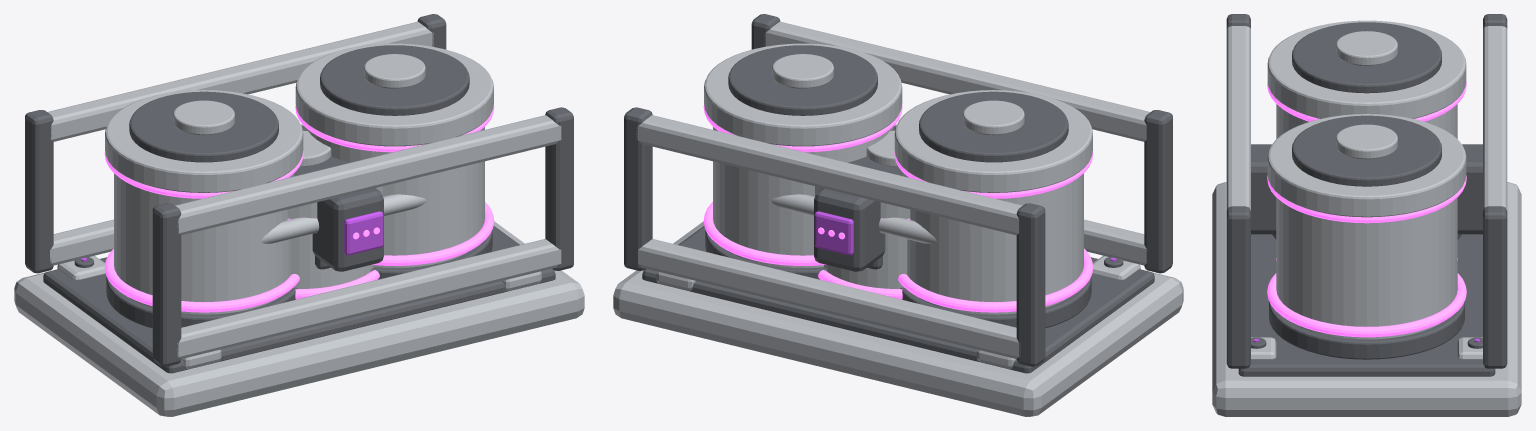
Rendered from AA_RadialMeshAtlas.glb.
The picture shows the model from 3 angles, left to right: view 1: azimuth 30°, elevation 25°; view 2: azimuth 150°, elevation 25°; view 3: azimuth 270°, elevation 25°; orthographic projection.
Parts seen in each view (by area): view 1: AA_RadialHeavy_Hull, AA_RadialHeavy_CageHull, AA_RadialHeavy_Dark, AA_RadialHeavy_CageDark, AA_RadialHeavy_Glow, AA_RadialCompact_Hull, AA_RadialHeavy_Accent, AA_RadialCompact_Glow, AA_RadialCompact_Dark; view 2: AA_RadialHeavy_Hull, AA_RadialHeavy_CageHull, AA_RadialHeavy_Dark, AA_RadialHeavy_CageDark, AA_RadialHeavy_Glow, AA_RadialCompact_Hull, AA_RadialHeavy_Accent, AA_RadialCompact_Glow, AA_RadialCompact_Dark; view 3: AA_RadialHeavy_Hull, AA_RadialHeavy_Dark, AA_RadialHeavy_CageHull, AA_RadialHeavy_CageDark, AA_RadialHeavy_Glow.
Boxes of the visible parts, x1,y1,x2,y2 form: AA_RadialHeavy_Hull: [14, 43, 584, 416]; AA_RadialHeavy_CageHull: [47, 21, 561, 358]; AA_RadialHeavy_Dark: [43, 45, 555, 373]; AA_RadialHeavy_CageDark: [25, 14, 573, 366]; AA_RadialHeavy_Glow: [104, 104, 494, 312]; AA_RadialCompact_Hull: [287, 124, 382, 288]; AA_RadialHeavy_Accent: [81, 211, 383, 261]; AA_RadialCompact_Glow: [287, 218, 379, 299]; AA_RadialCompact_Dark: [294, 125, 349, 269]; AA_RadialHeavy_Hull: [613, 43, 1183, 416]; AA_RadialHeavy_CageHull: [636, 21, 1150, 358]; AA_RadialHeavy_Dark: [642, 45, 1154, 373]; AA_RadialHeavy_CageDark: [624, 14, 1172, 366]; AA_RadialHeavy_Glow: [703, 104, 1093, 312]; AA_RadialCompact_Hull: [815, 124, 910, 288]; AA_RadialHeavy_Accent: [814, 211, 1116, 261]; AA_RadialCompact_Glow: [818, 218, 910, 299]; AA_RadialCompact_Dark: [848, 125, 903, 269]; AA_RadialHeavy_Hull: [1212, 20, 1521, 416]; AA_RadialHeavy_Dark: [1238, 22, 1495, 376]; AA_RadialHeavy_CageHull: [1226, 26, 1507, 210]; AA_RadialHeavy_CageDark: [1226, 14, 1507, 368]; AA_RadialHeavy_Glow: [1267, 82, 1466, 337].
Size of the model in its own units: 1.12 by 0.5675 by 0.7.
